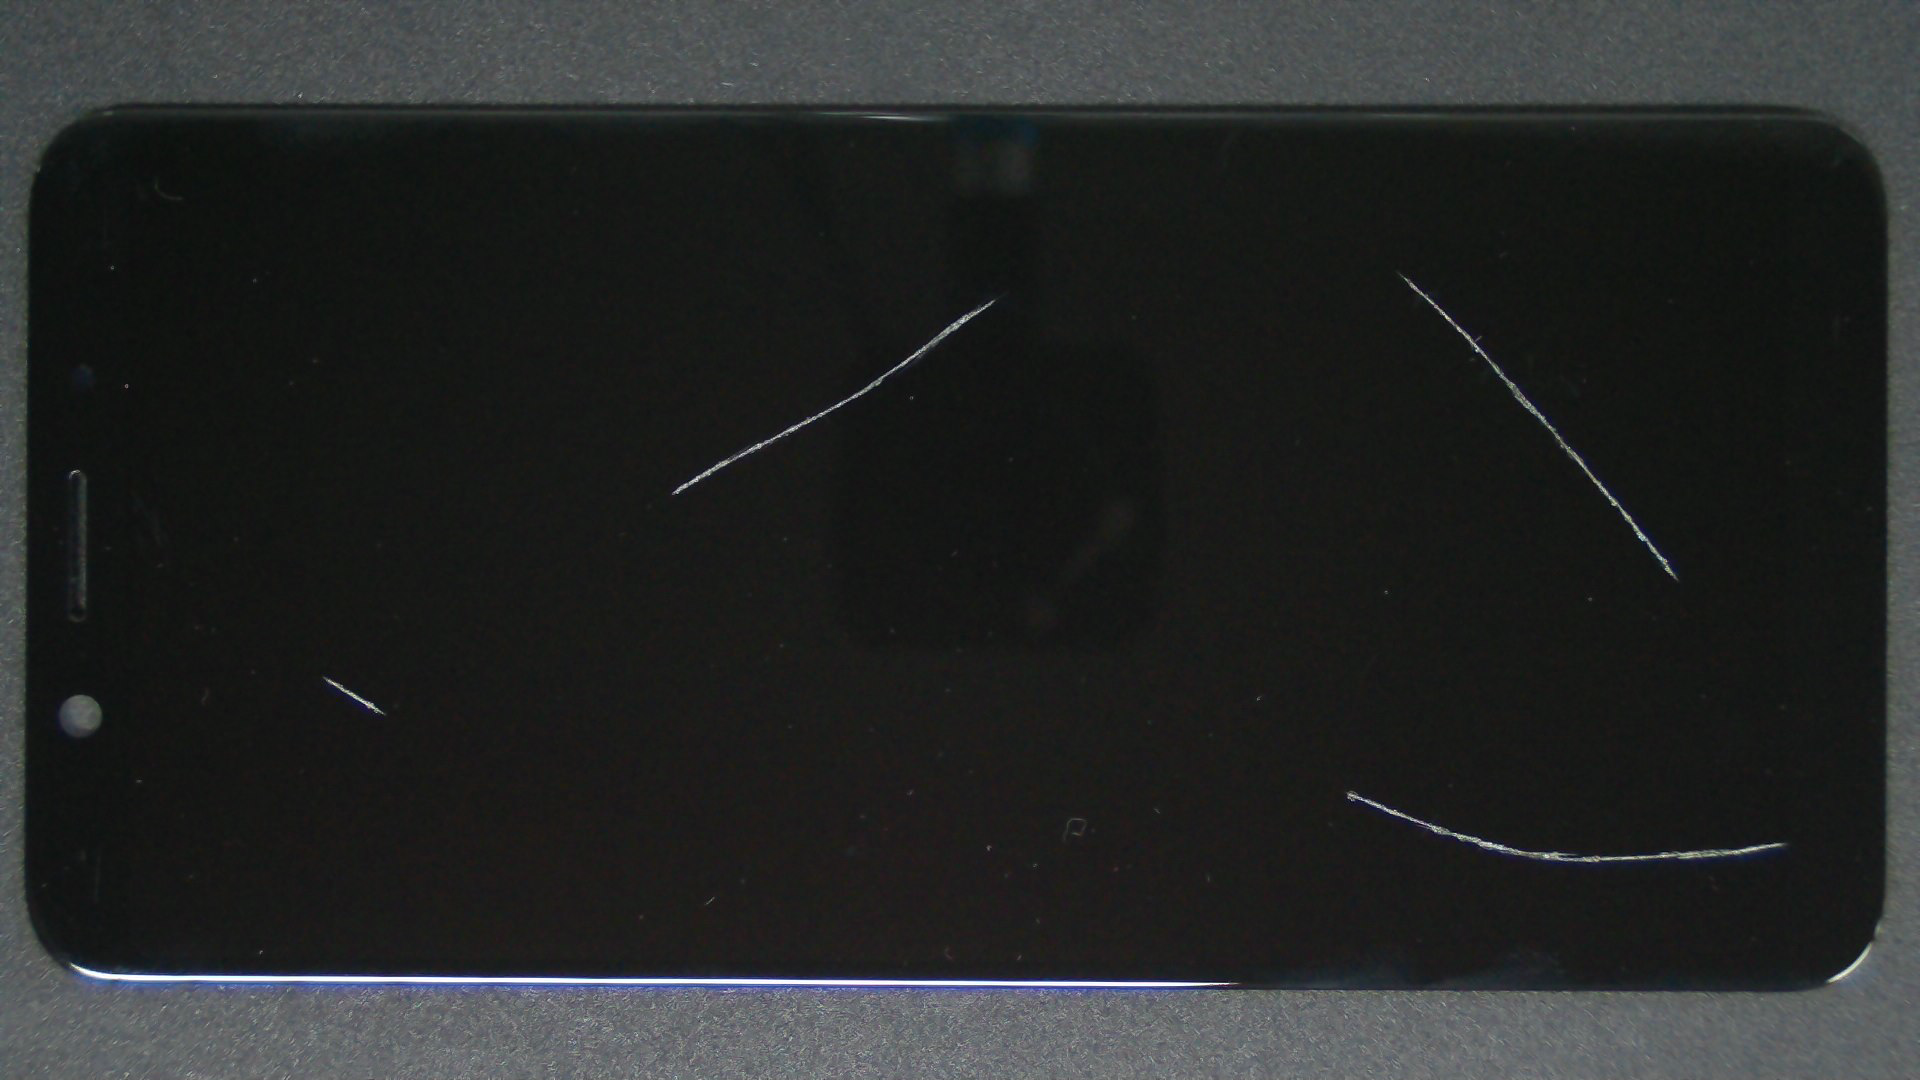defect: (1400, 276, 1680, 582), (671, 299, 996, 495), (1346, 790, 1787, 862), (322, 675, 386, 715)
